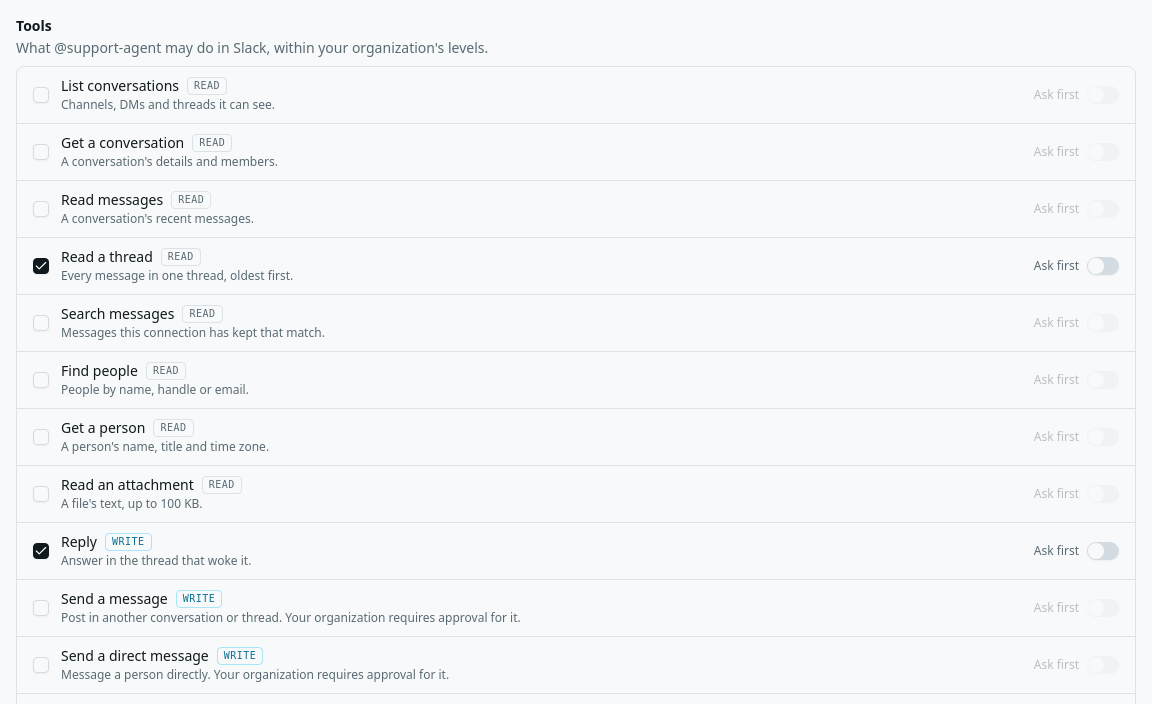
an agent's channel settings › offers tools within the organization's levels
This screenshot has width=1152, height=704.
A tool the organization requires approval for asks first as soon as it's on, and can't stop asking.
Click the checkbox named "Send a message" next to "Send a message".
click(41, 608)  # box left=33, top=600, right=49, bottom=616
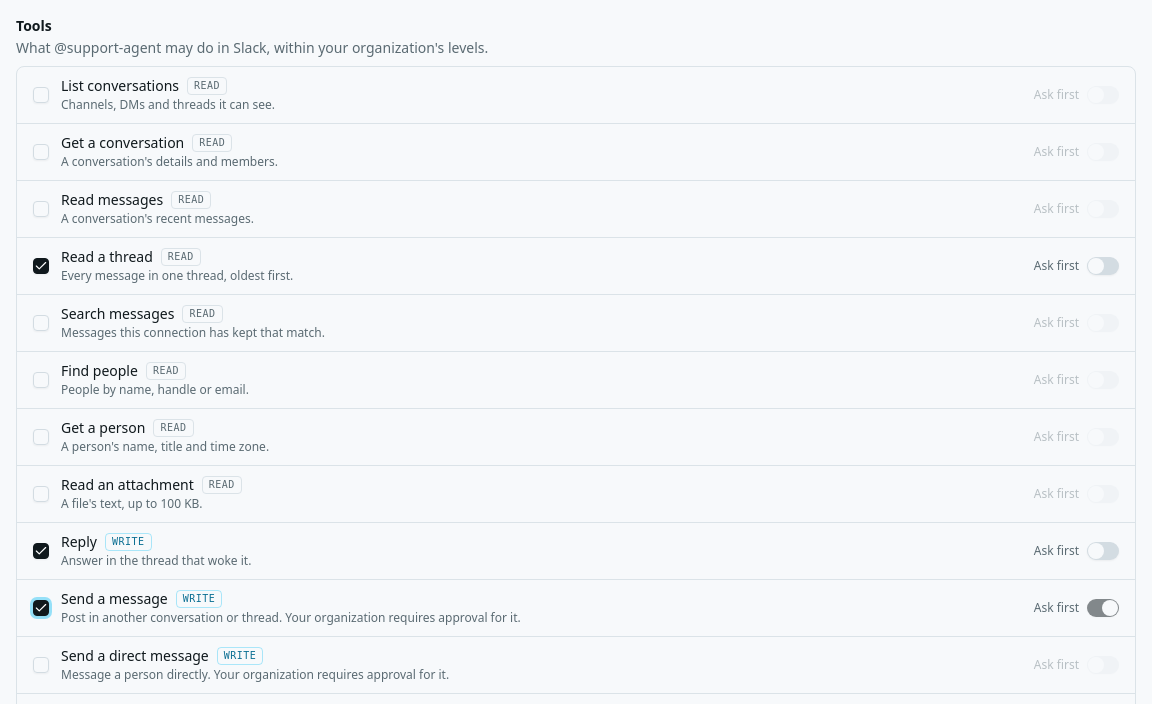
Expected: the switch named "Require approval for Send a message" is disabled, left=1087, top=599, right=1119, bottom=617
Result: the switch named "Require approval for Send a message" is checked at left=1087, top=599, right=1119, bottom=617
